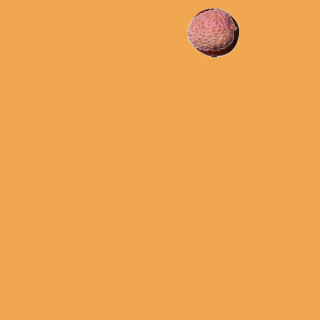Apple Braeburn: (188, 7, 238, 57)
Lychee: (186, 4, 236, 54)
